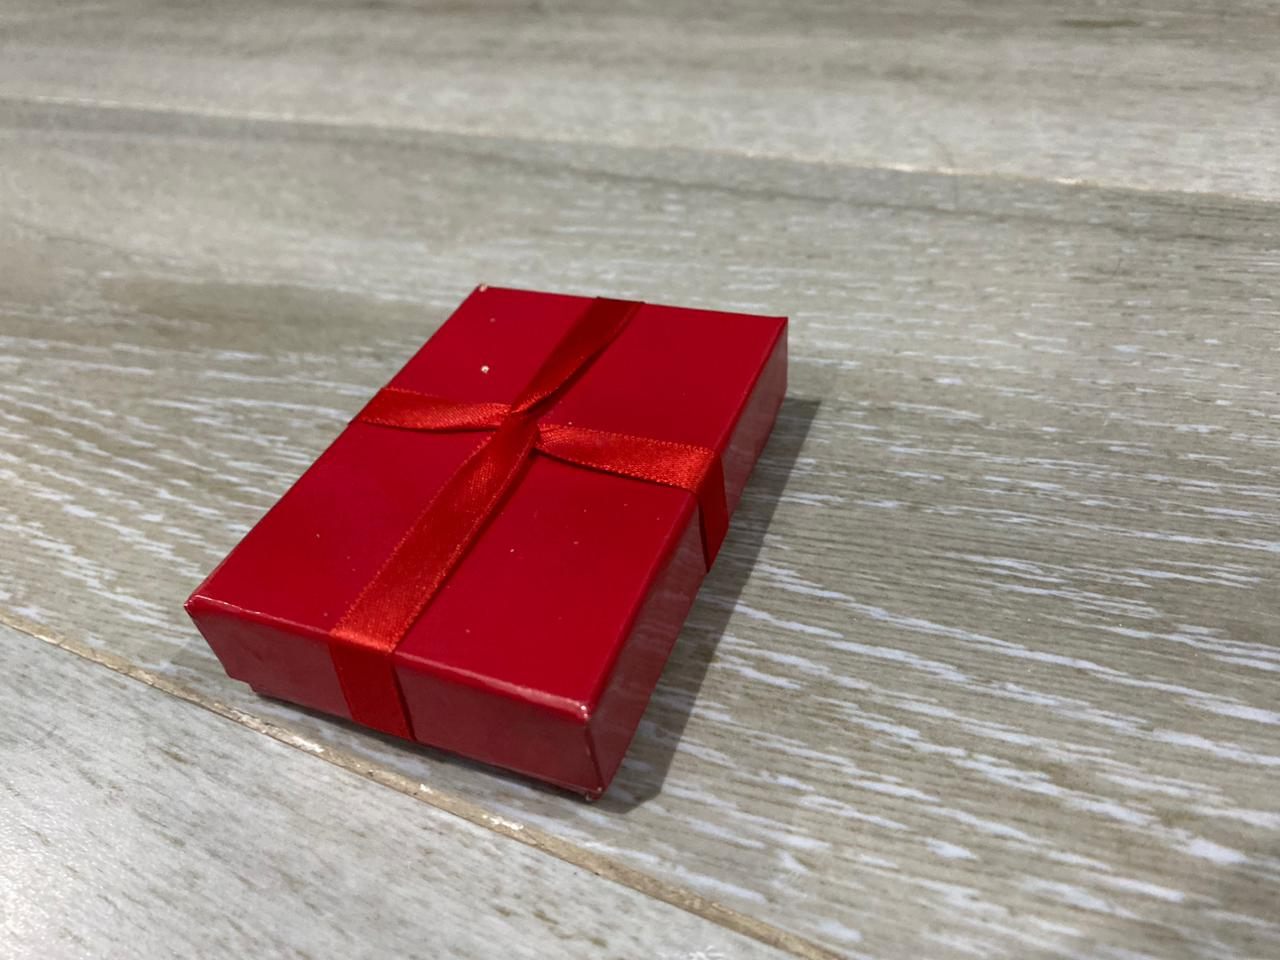Black Box: (180, 276, 797, 808)
